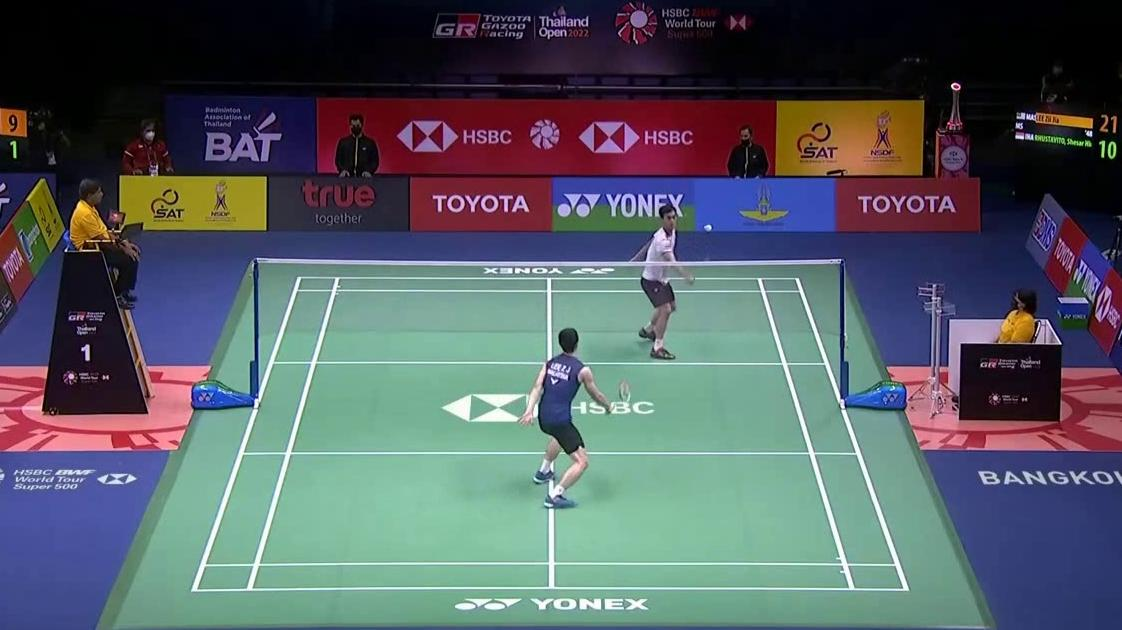racket: (691, 246, 717, 283), (608, 380, 632, 416)
shuttle: (702, 223, 713, 233)
